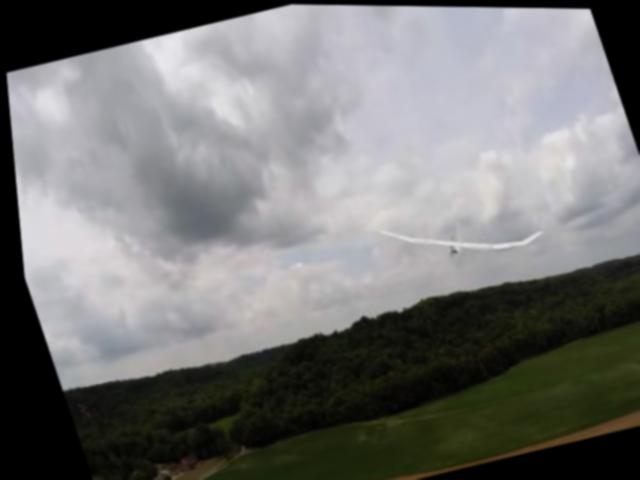uav: (370, 184, 546, 282)
